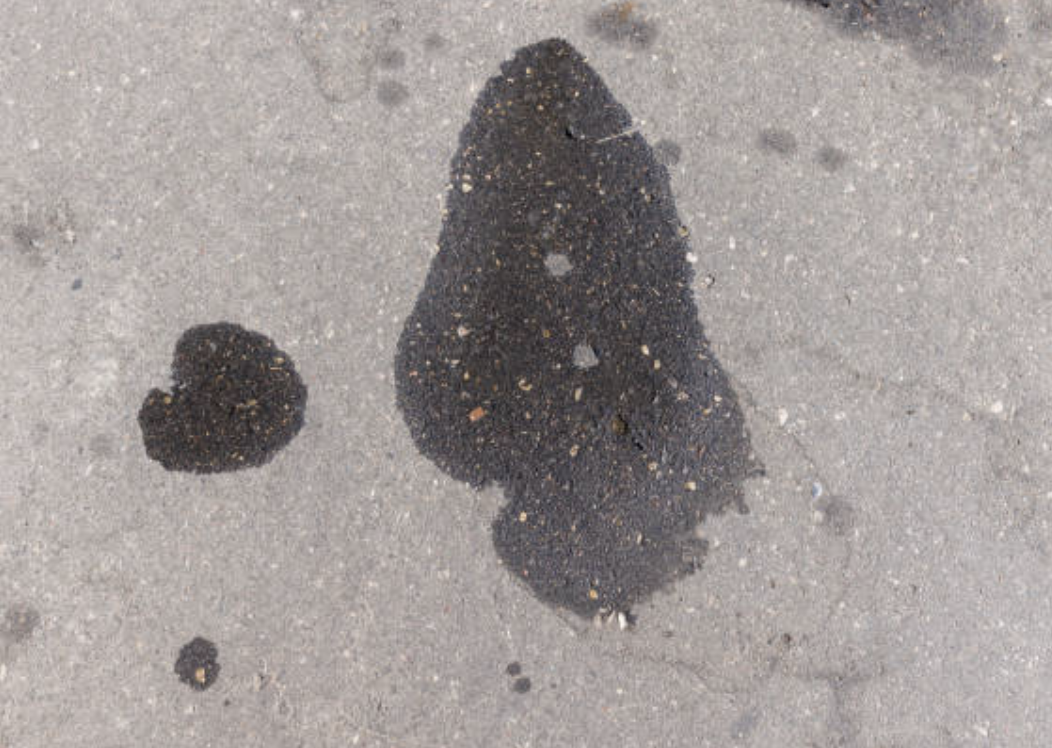oil: (197, 20, 381, 310), (68, 160, 154, 239), (89, 319, 112, 344)
